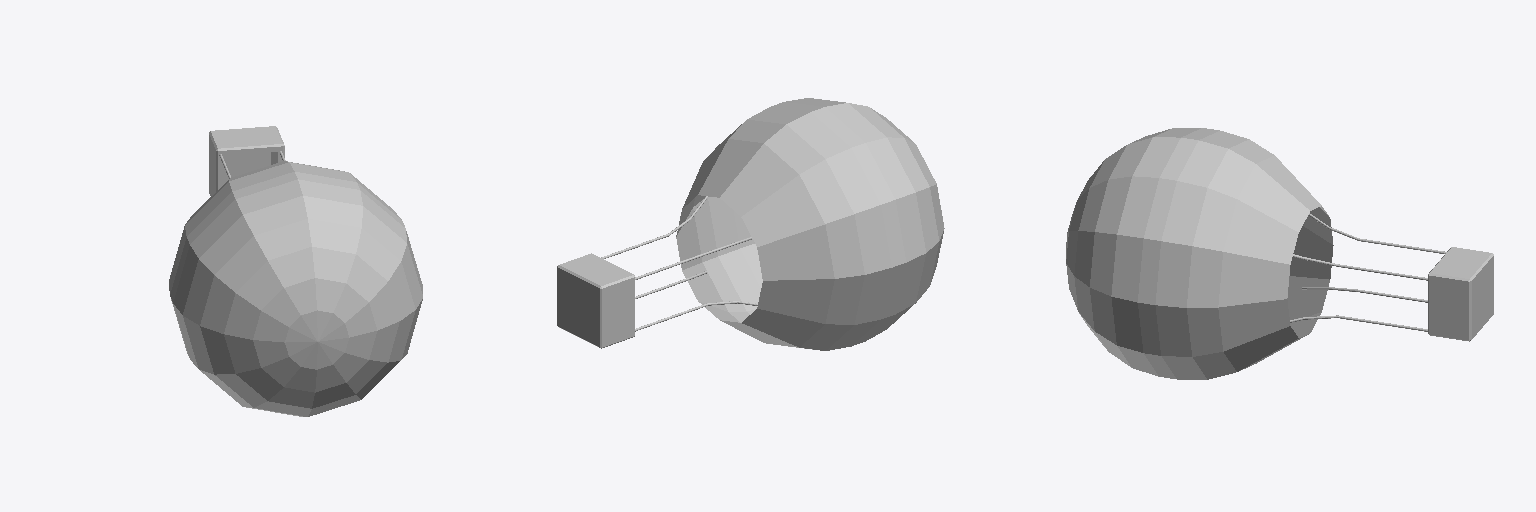
The model's file is hot-air-balloon.obj.
3 views of the same model, side by side, from view 1: azimuth 30°, elevation 25°; view 2: azimuth 150°, elevation 25°; view 3: azimuth 270°, elevation 25° (orthographic).
Parts seen in each view (by area): view 1: hot-air-balloon; view 2: hot-air-balloon; view 3: hot-air-balloon.
Boxes of the visible parts, x1=… form: hot-air-balloon: x1=169, y1=126, x2=422, y2=416; hot-air-balloon: x1=557, y1=98, x2=944, y2=350; hot-air-balloon: x1=1066, y1=128, x2=1493, y2=379.
Size of the model in its own units: 49.82 by 47.14 by 79.74.